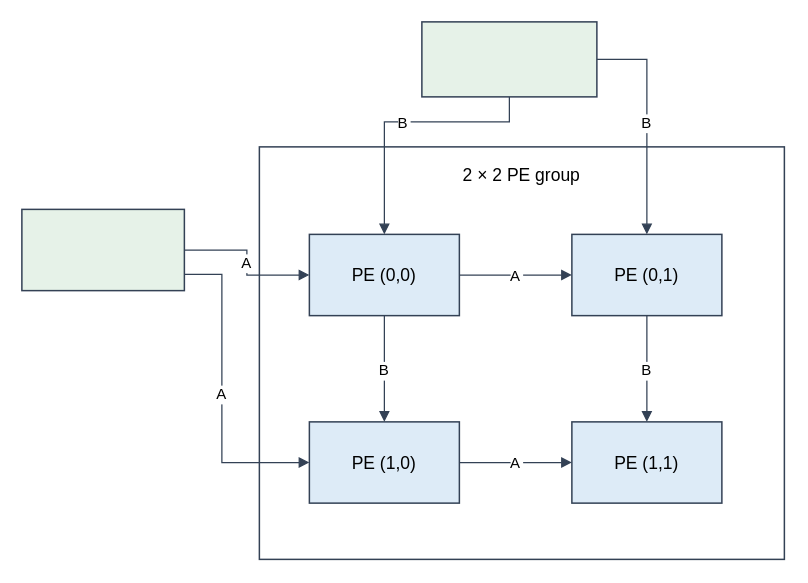
Image size: 808x583. Some labels were removed from this diagram. Here are the shapes that lost their labels. From the top down, the centre of each, then its label:
the point at 508,58: B buffer
the point at 102,249: A buffer
